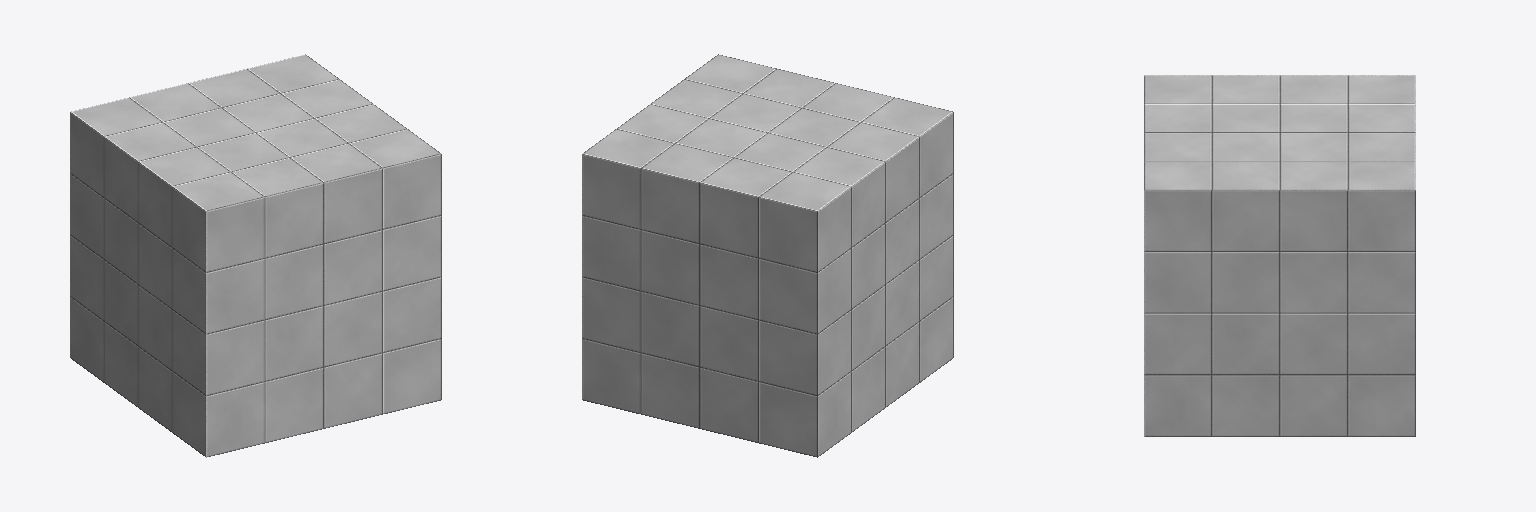
The picture shows the model from 3 angles: view 1: azimuth 30°, elevation 25°; view 2: azimuth 150°, elevation 25°; view 3: azimuth 270°, elevation 25°; orthographic projection.
Parts seen in each view (by area): view 1: Box01; view 2: Box01; view 3: Box01.
Boxes of the visible parts, <box> form: Box01: <box>70,54,441,457</box>; Box01: <box>582,54,953,457</box>; Box01: <box>1144,75,1415,436</box>.
Bounding box in the file's own units: 2.54 × 2.54 × 2.54.
Materials: 1 (1 with a texture image).